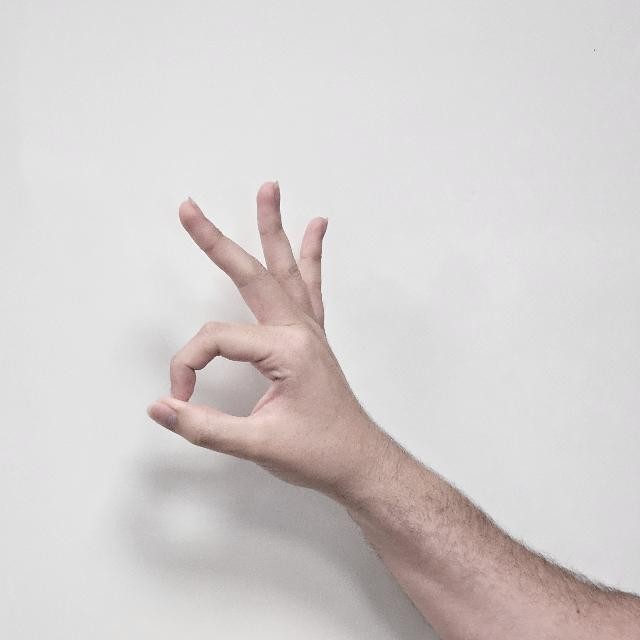Bolinha: (141, 140, 377, 526)
